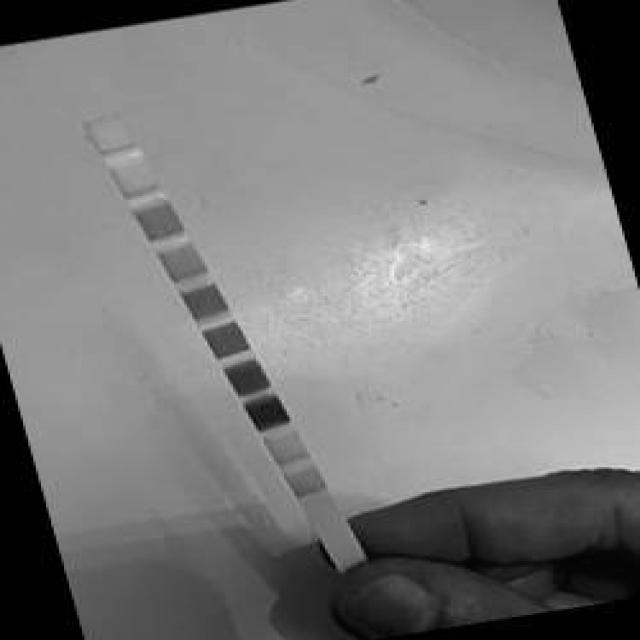Bilirubin: (277, 437, 300, 459)
Blood: (216, 328, 239, 353)
Glucose: (294, 474, 320, 492)
Ketone: (255, 401, 279, 424)
Leukocytes: (100, 122, 126, 147)
Nitrite: (123, 168, 147, 193)
Protein: (171, 251, 195, 276)
SpGravity: (236, 364, 259, 390)
Urobilinogen: (148, 208, 171, 233)
background: (0, 0, 640, 640)
pH: (195, 290, 217, 315)
strip: (81, 112, 366, 568)
